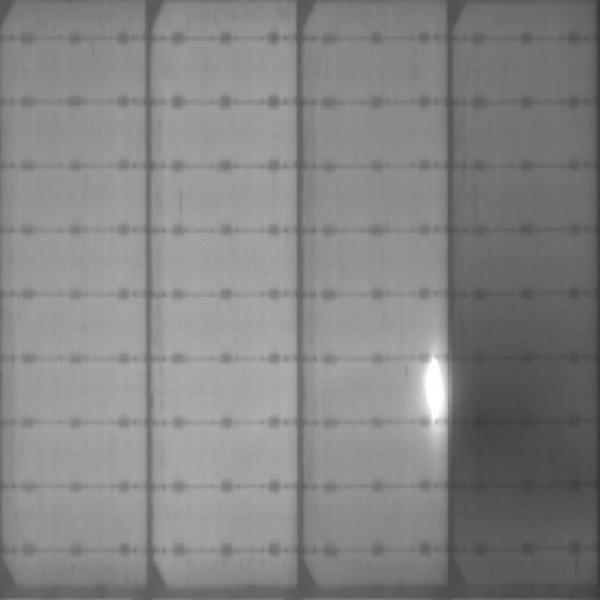hot_spot: (423, 358, 448, 430)
